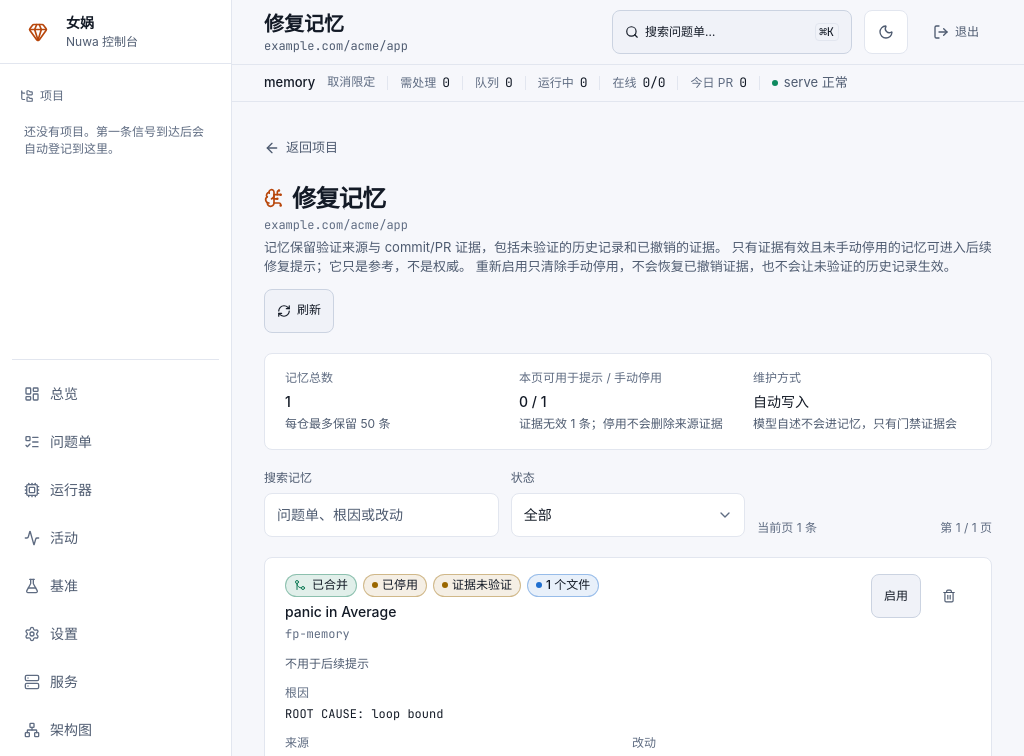
Scenario: 项目修复记忆 › enabling legacy memory does not revive its evidence
Expected: the link "fp-memory" is shown, [285,626,350,643]
Expected: the text "证据未验证" is shown, [433,574,521,597]
Click the button "启用".
click(896, 596)  # box [871,574,921,618]
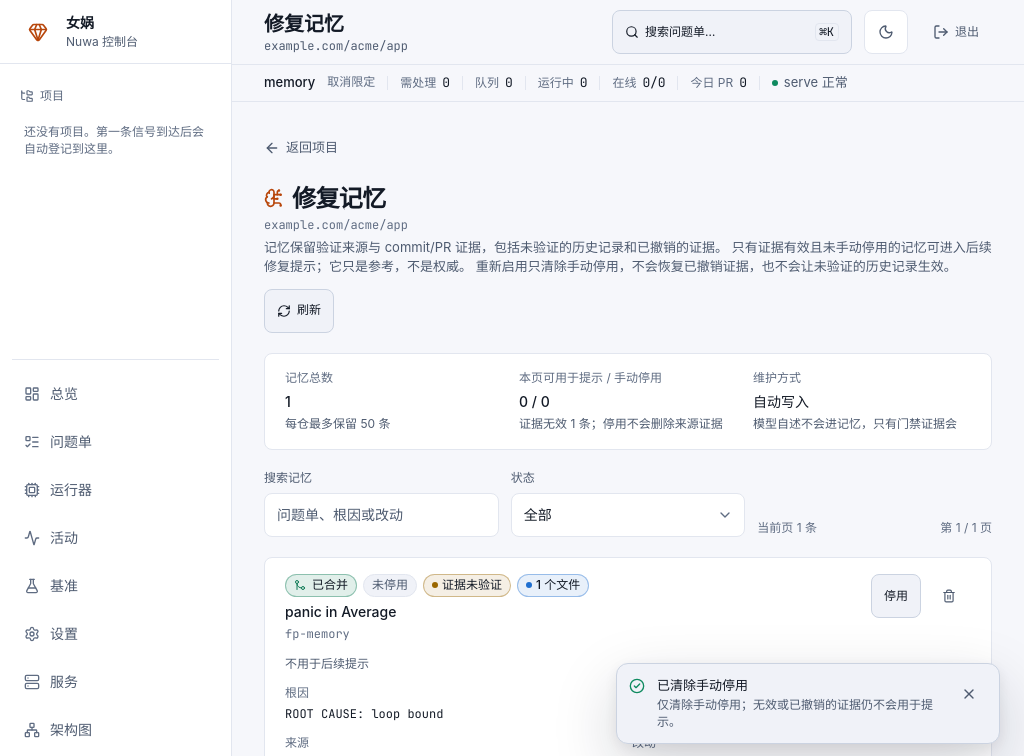
Expected: the text "未停用" is shown, [363,574,417,597]
Expected: the text "0 / 0" is shown, [519,393,550,410]
Expected: the text "仅清除手动停用；无效或已撤销的证据仍不会用于提示。" is shown, [657,697,935,731]
Select "生效中" in the dropdown labelled "状态" at (628, 515), box [511,493,745,537]
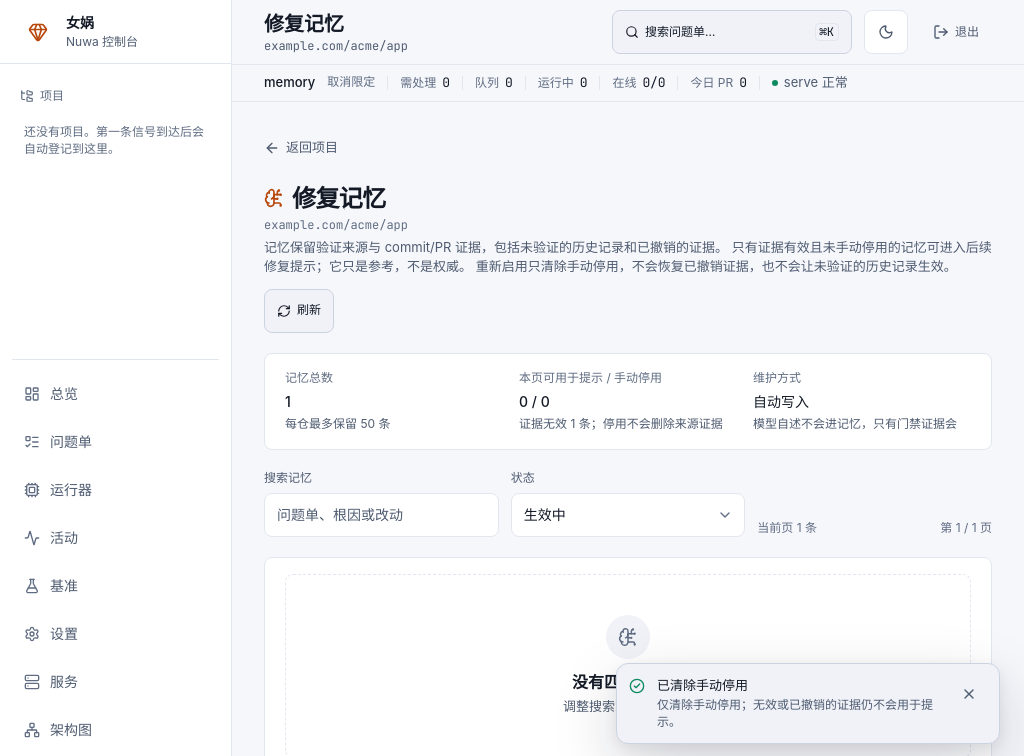
Expected: the heading "没有匹配的记忆" is shown, [563,671,693,693]
Expected: the link "fp-memory" is gone
